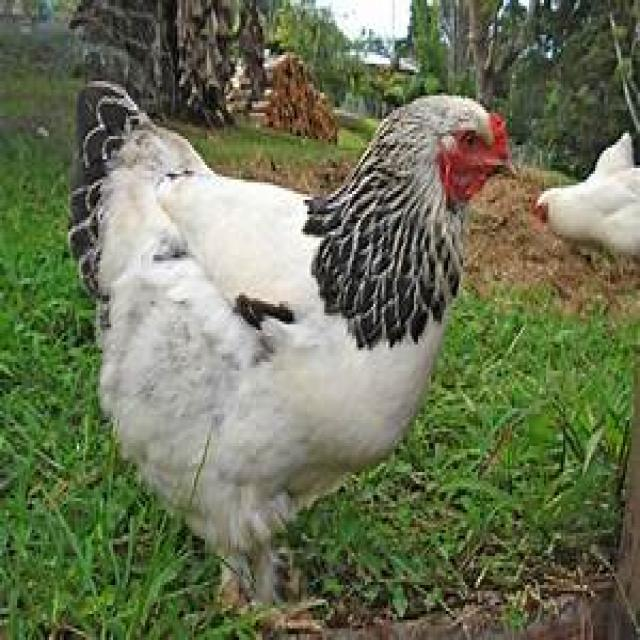hen: (70, 81, 510, 596)
